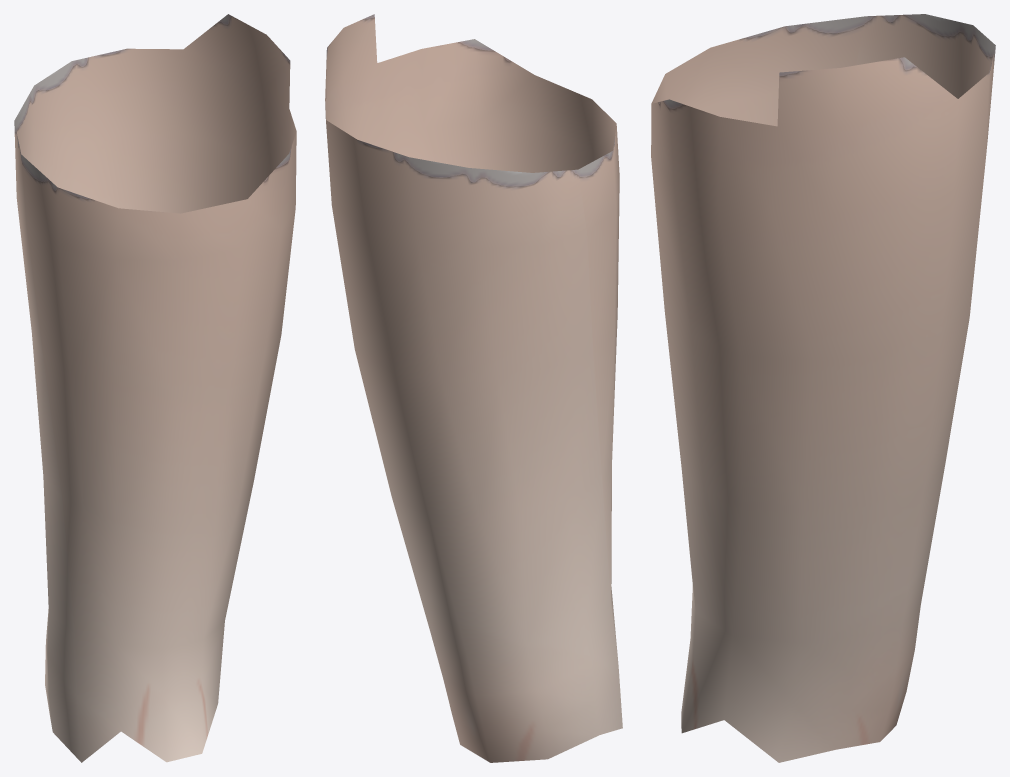
The model's file is muslo_der_yae.obj.
3 renders of one model, left to right at view 1: azimuth 30°, elevation 25°; view 2: azimuth 150°, elevation 25°; view 3: azimuth 270°, elevation 25°, orthographic. The views are drawn at different scales.
Parts seen in each view (by area): view 1: 右足D, 肌.010_Материал.020, 肌.010_Material.002, 右ひざD; view 2: 右足D, 肌.010_Материал.020, 肌.010_Material.002; view 3: 右足D, 肌.010_Материал.020, 肌.010_Material.002.
Part boxes in pixels (x1,y1,x2,y2): 右足D: (16,133,295,762); 肌.010_Материал.020: (14,16,296,753); 肌.010_Material.002: (14,14,291,199); 右ひざD: (163,695,201,762); 右足D: (332,122,622,762); 肌.010_Материал.020: (325,17,619,249); 肌.010_Material.002: (326,14,614,186); 右足D: (651,92,984,762); 肌.010_Материал.020: (651,14,995,731); 肌.010_Material.002: (658,14,995,108).
Size of the model in its own units: 0.0496 by 0.1292 by 0.0535.
